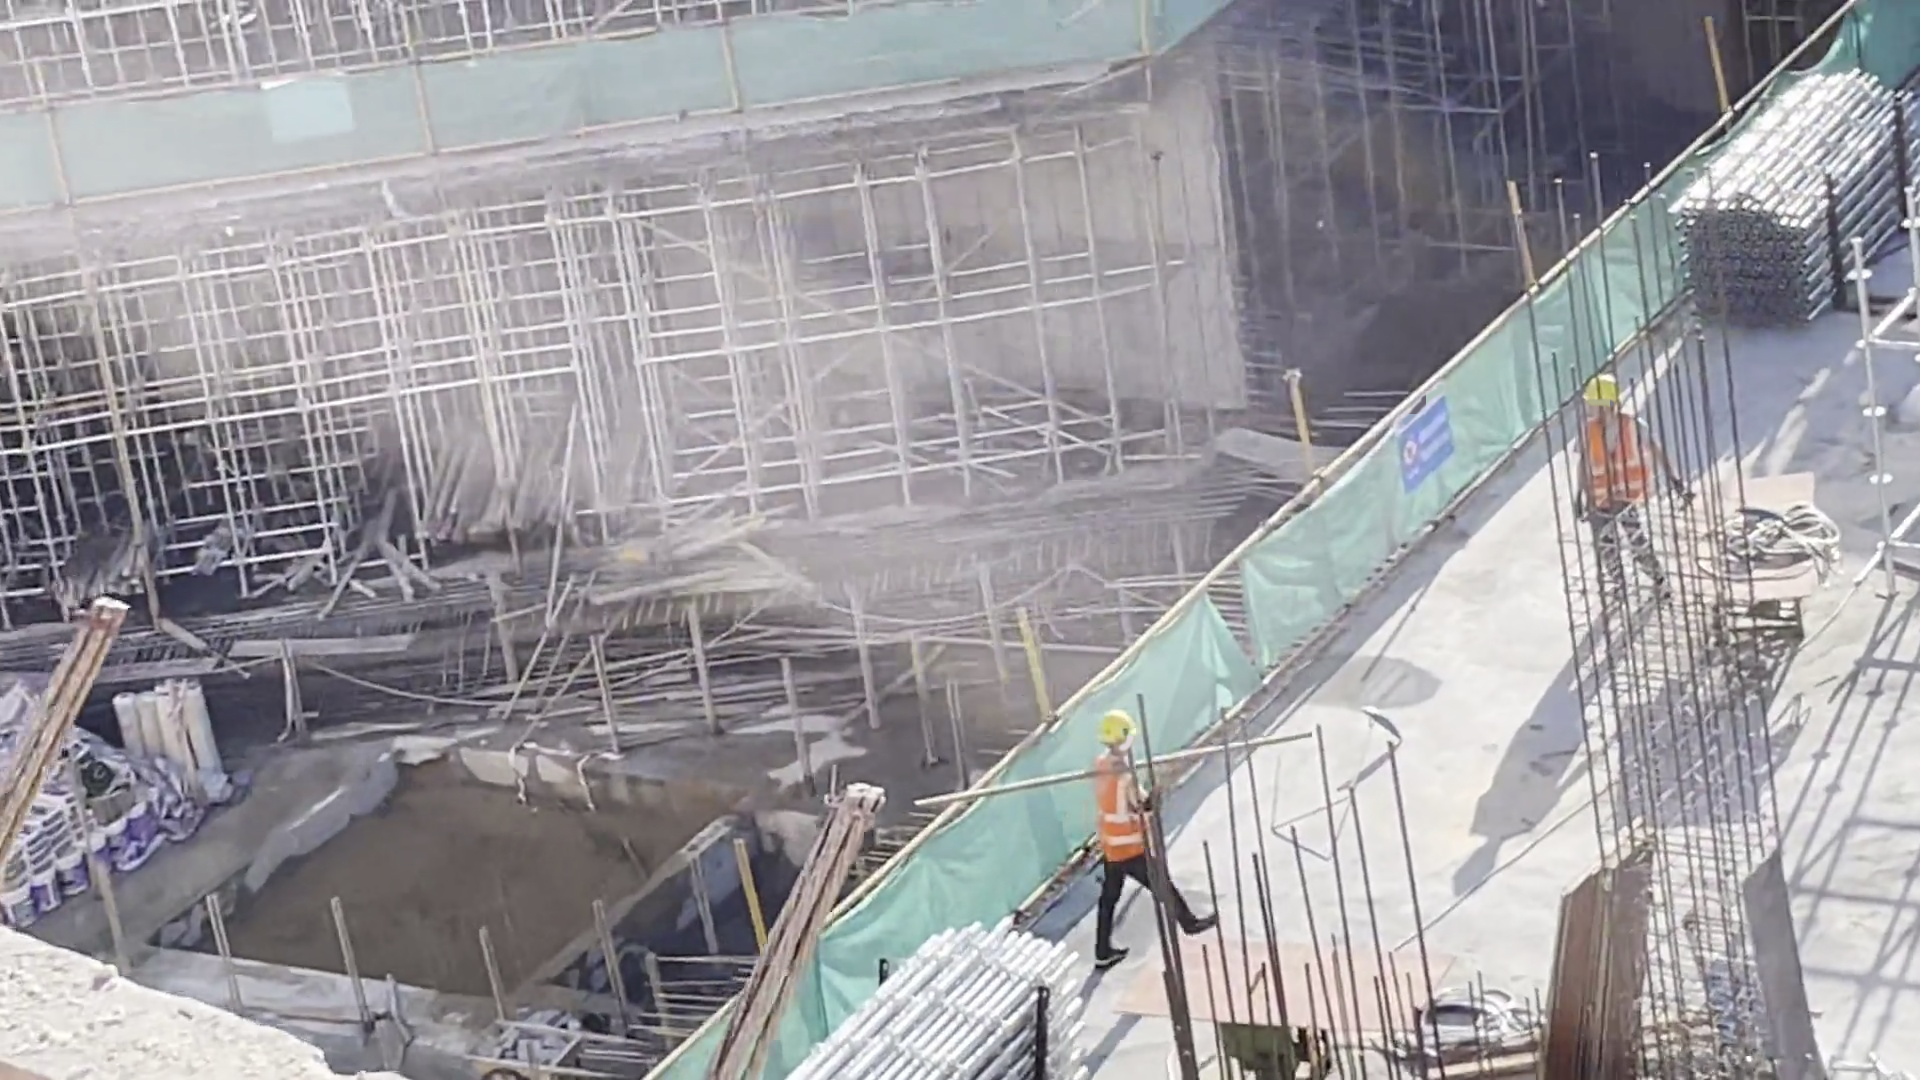cutter: (1160, 936, 1397, 1077)
helmet: (1577, 376, 1616, 413), (1098, 715, 1130, 748)
person: (1081, 708, 1221, 978), (1562, 366, 1692, 613)
scaffold: (1704, 65, 1887, 313), (791, 944, 1093, 1080)
slogan: (1407, 398, 1460, 487)
vest: (1089, 754, 1150, 867), (1584, 429, 1647, 508)
